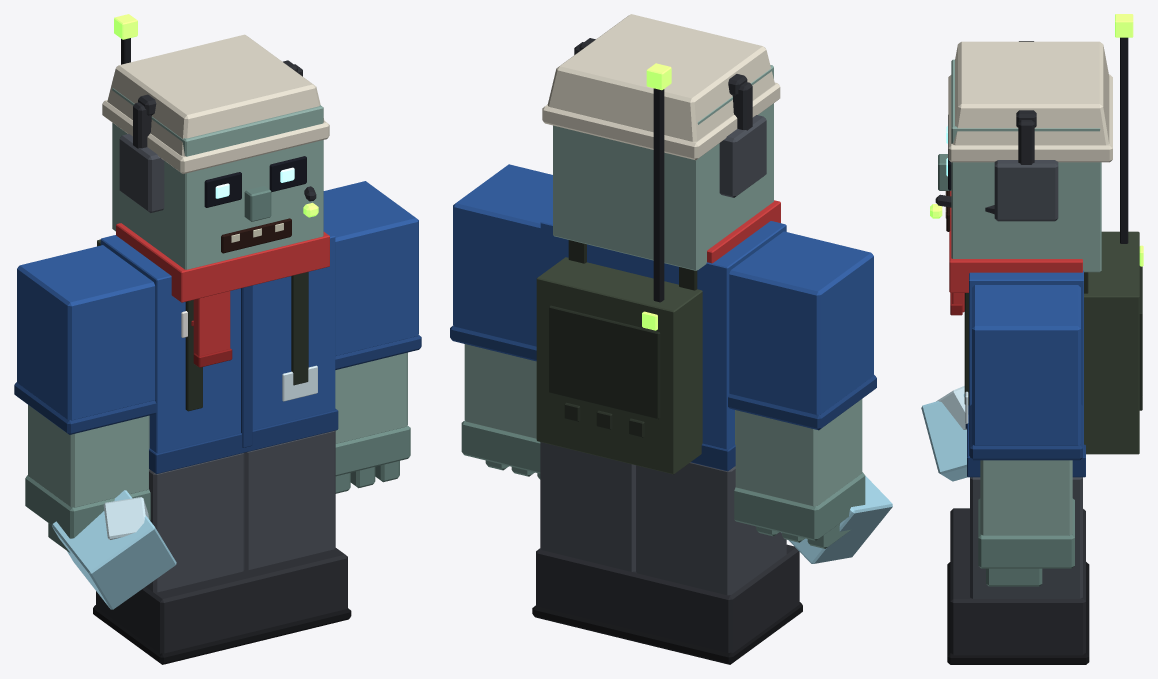
File: myw_zombieradiooperator.glb
3 views of the same model, side by side, from view 1: azimuth 30°, elevation 25°; view 2: azimuth 150°, elevation 25°; view 3: azimuth 270°, elevation 25° (orthographic). The views are drawn at different scales.
Visible parts, largest first — view 1: Torso, RightArm, LeftArm, Hat, Head, RightLeg, LeftLeg, IceChunk; view 2: Torso, RightArm, RightLeg, Hat, LeftArm, Head, LeftLeg, IceChunk; view 3: LeftArm, Hat, Torso, LeftLeg, Head, IceChunk, RightLeg.
Part boxes in pixels (x1,y1,x2,y2): Torso: [97, 14, 338, 473]; RightArm: [14, 245, 156, 552]; LeftArm: [323, 181, 421, 493]; Hat: [102, 34, 329, 217]; Head: [112, 88, 323, 269]; RightLeg: [93, 453, 258, 664]; LeftLeg: [244, 430, 351, 642]; IceChunk: [52, 490, 176, 609]; Torso: [536, 63, 786, 474]; RightArm: [728, 231, 876, 548]; RightLeg: [629, 462, 802, 664]; Hat: [542, 14, 780, 197]; LeftArm: [450, 164, 552, 479]; Head: [553, 65, 773, 270]; LeftLeg: [532, 442, 635, 641]; IceChunk: [781, 476, 892, 563]; LeftArm: [970, 285, 1082, 586]; Hat: [930, 41, 1112, 221]; Torso: [949, 14, 1143, 477]; LeftLeg: [947, 477, 1089, 664]; Head: [938, 59, 1101, 272]; IceChunk: [921, 386, 967, 481]; RightLeg: [947, 508, 1089, 609].
Size of the model in its own units: 4.04 by 6.22 by 2.16.
